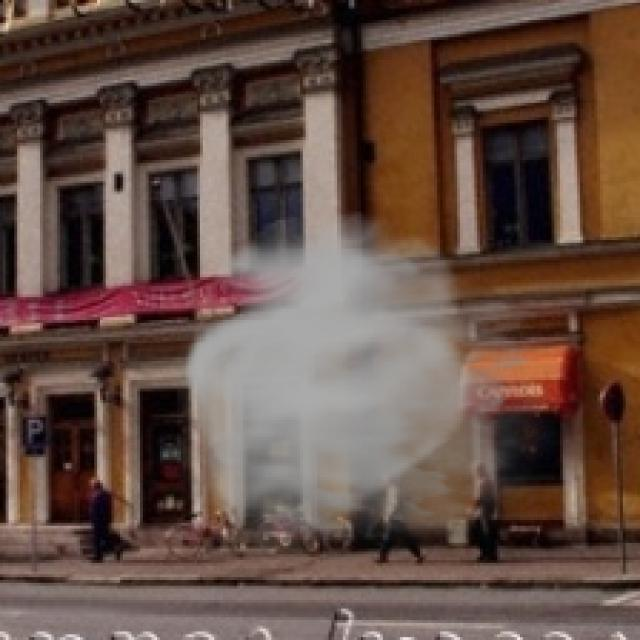smoke: (177, 211, 577, 563)
